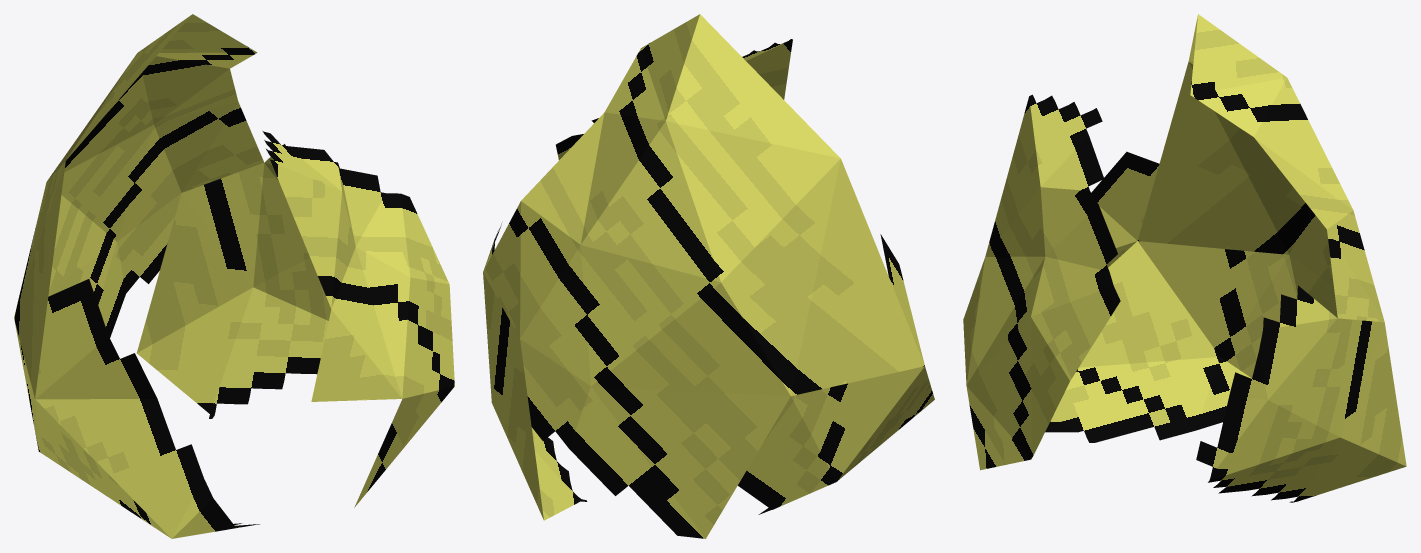
File: gold_ore.fbx
3 views of the same model, side by side, from view 1: azimuth 30°, elevation 25°; view 2: azimuth 150°, elevation 25°; view 3: azimuth 270°, elevation 25° (orthographic). The views are drawn at different scales.
Visible parts, largest first — view 1: gold_ore; view 2: gold_ore; view 3: gold_ore.
Part boxes in pixels (x1=…): gold_ore: x1=14, y1=14, x2=454, y2=538; gold_ore: x1=483, y1=14, x2=934, y2=538; gold_ore: x1=963, y1=14, x2=1406, y2=502.
Size of the model in its own units: 16.67 by 20.42 by 16.71.
